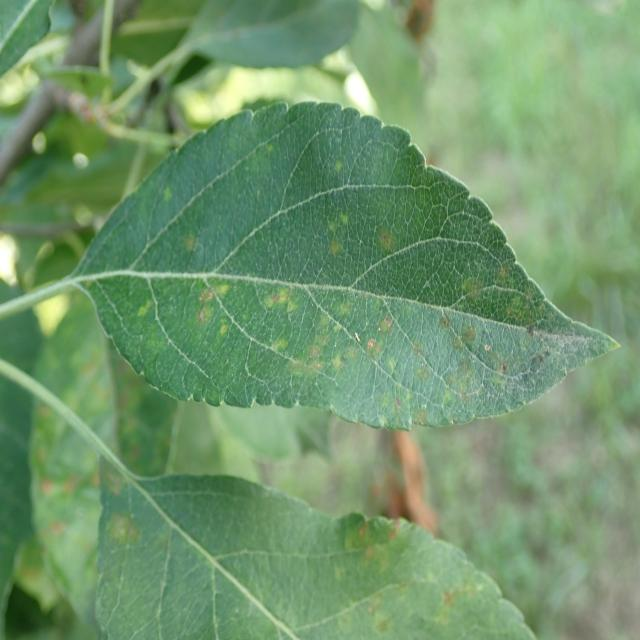scab: (132, 152, 580, 422), (89, 478, 512, 640)
